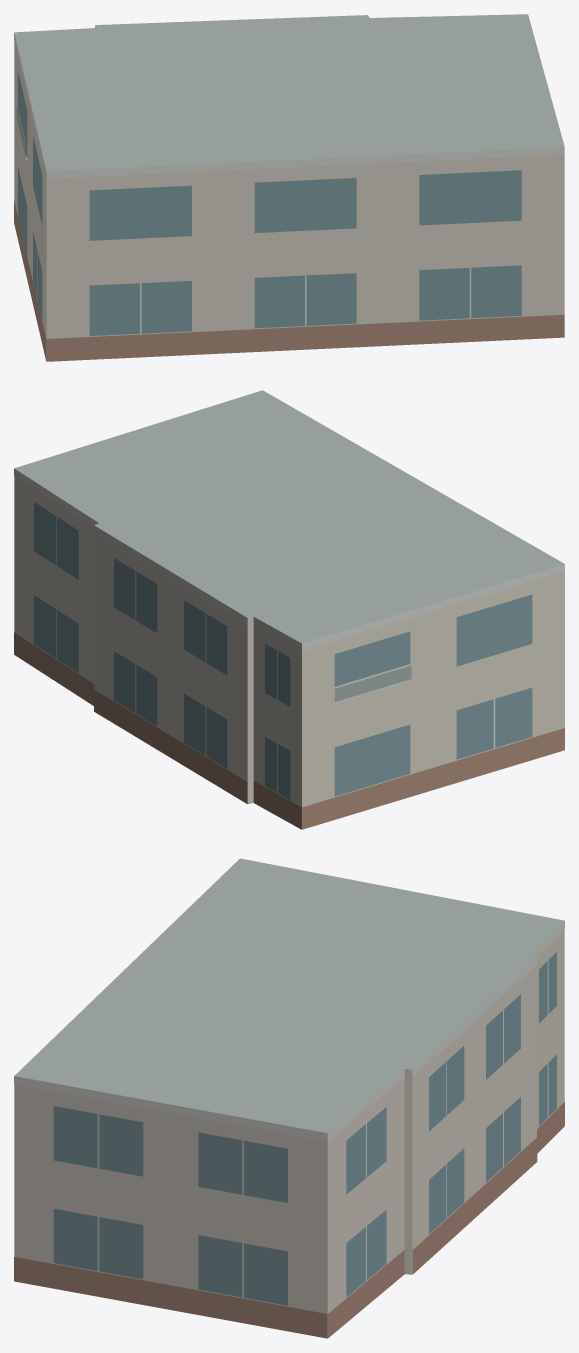
File: survey-upis-32567328.glb
3 views of the same model, one above another, from view 1: azimuth 30°, elevation 25°; view 2: azimuth 150°, elevation 25°; view 3: azimuth 270°, elevation 25° (orthographic). The views are drawn at different scales.
Visible parts, largest first — view 1: survey-upis-32567328.tmp; view 2: survey-upis-32567328.tmp; view 3: survey-upis-32567328.tmp.
Part boxes in pixels (left/top/right/bottom): survey-upis-32567328.tmp: left=14, top=14, right=564, bottom=361; survey-upis-32567328.tmp: left=14, top=390, right=564, bottom=829; survey-upis-32567328.tmp: left=14, top=858, right=564, bottom=1338.
Size of the model in its own units: 17.52 by 6.1 by 14.84.
